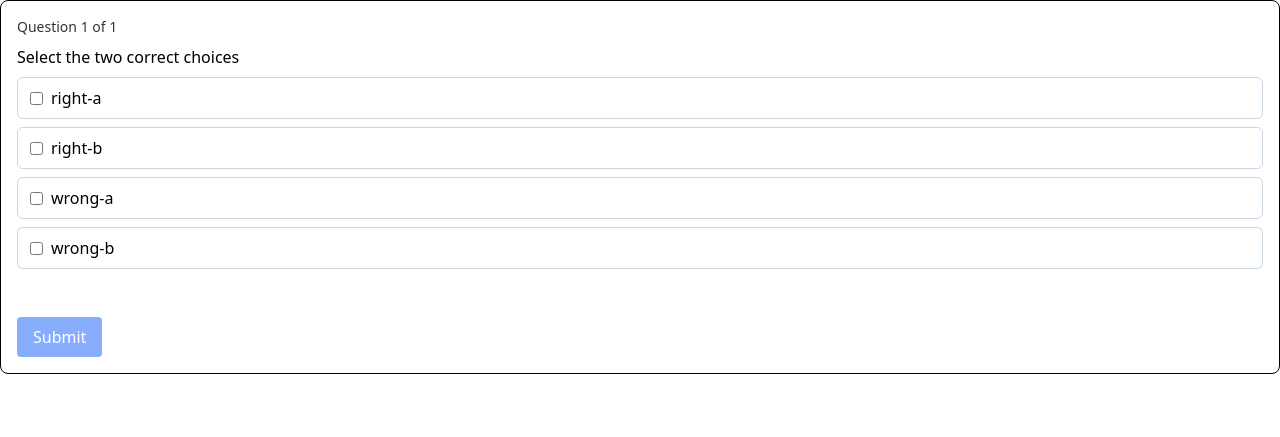
Scenario: multi partial credit (§13 roadmap D-023) › still shows "Incorrect." and zero credit when only wrong choices are selected (no regression)
This screenshot has width=1280, height=437.
Step 1. Click the checkbox labelled "wrong-a" → {"x": 36, "y": 198}, box top-left (30, 192), bottom-right (43, 204)
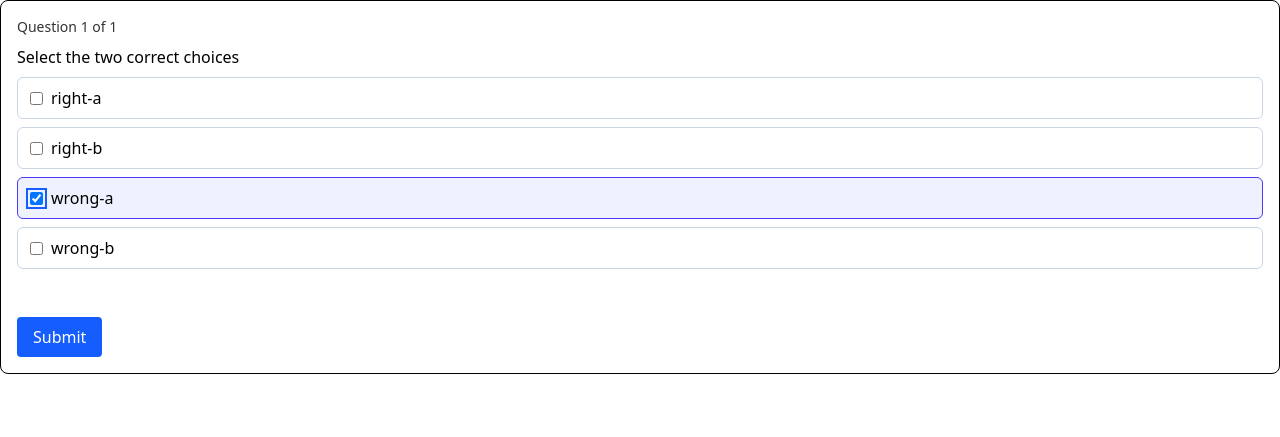
Step 2. Click the button "Submit" → {"x": 60, "y": 337}, box top-left (17, 317), bottom-right (102, 357)
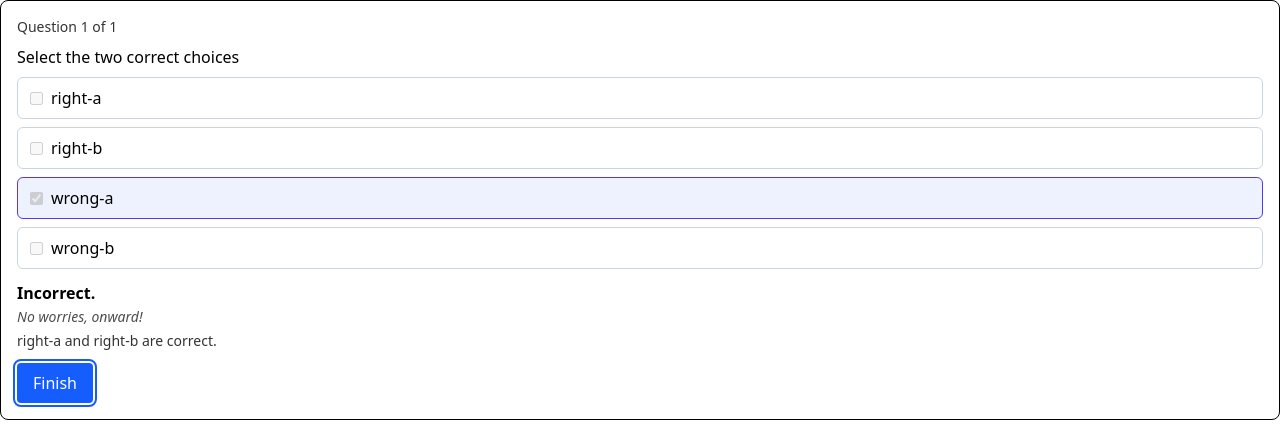
Result: the text "Incorrect." is shown at top-left (17, 282), bottom-right (95, 304)
Step 3. Click the button "Finish" → {"x": 55, "y": 383}, box top-left (17, 363), bottom-right (93, 403)
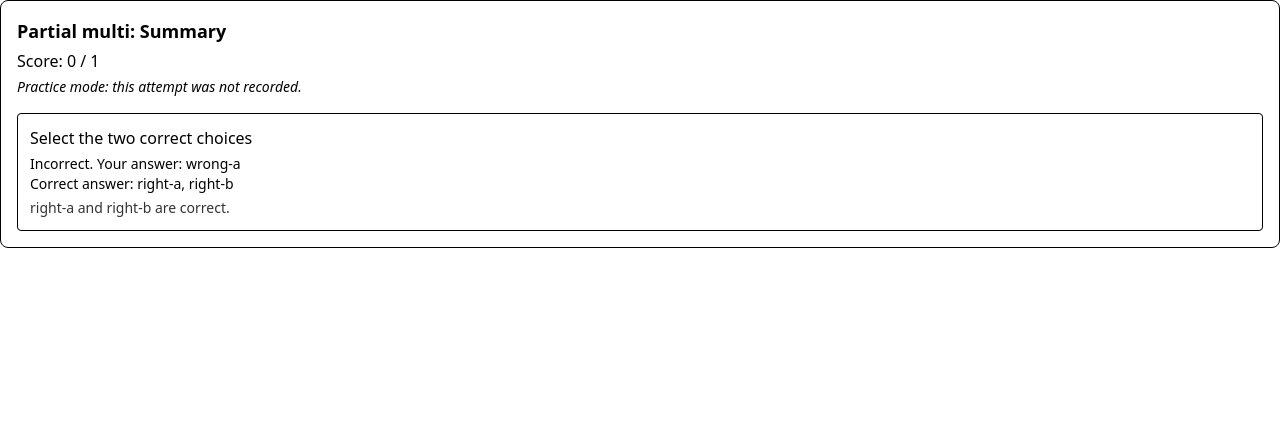
Result: the text "Score: 0 / 1" is shown at top-left (17, 50), bottom-right (100, 72)
